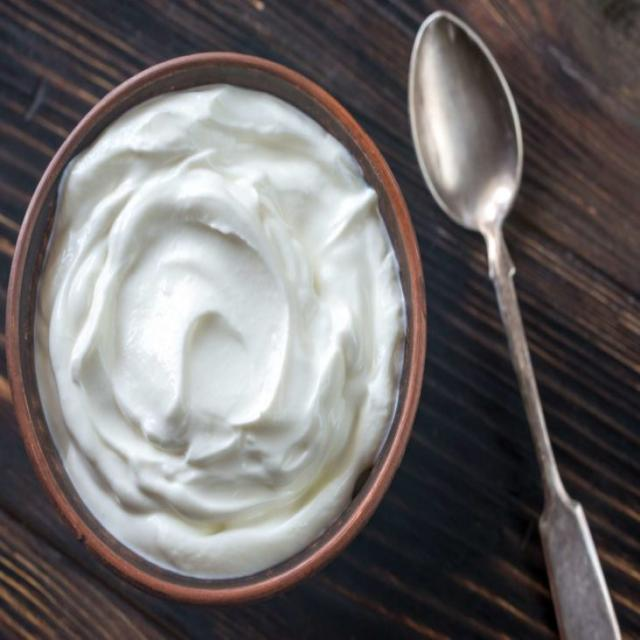Yogurt cup: (16, 66, 406, 598)
